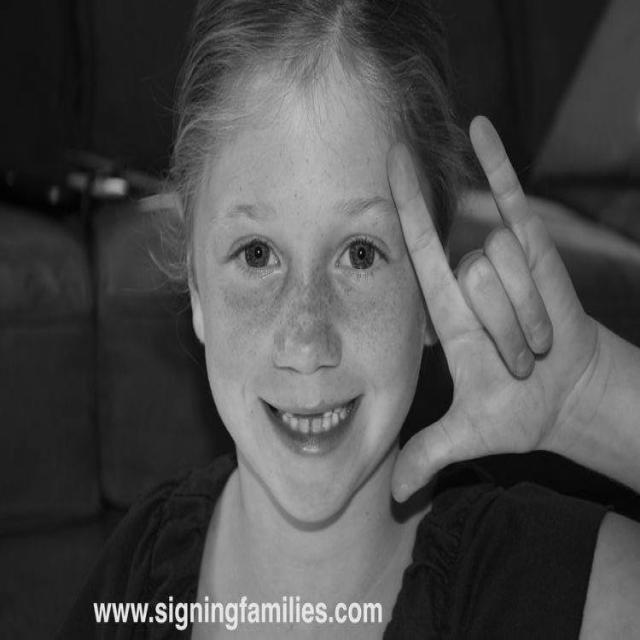i love you: (382, 108, 600, 510)
